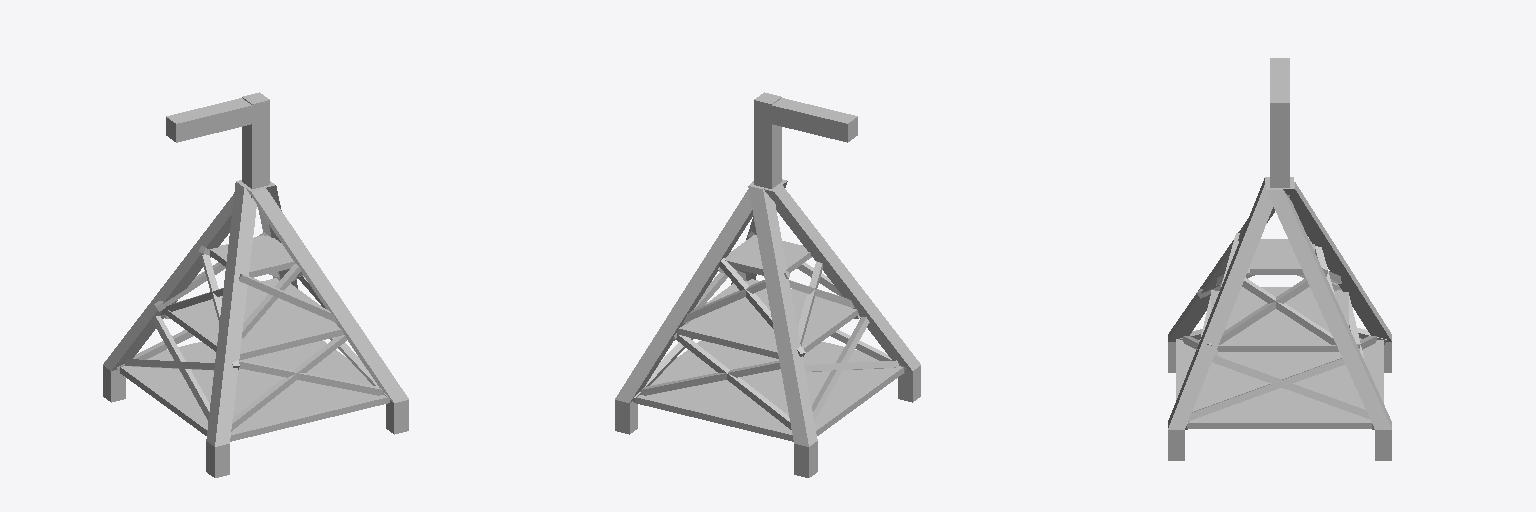
The model's file is windmillbase.obj.
3 renders of one model, left to right at view 1: azimuth 30°, elevation 25°; view 2: azimuth 150°, elevation 25°; view 3: azimuth 270°, elevation 25°, orthographic.
Parts seen in each view (by area): view 1: Cube.004_Cube.022; view 2: Cube.004_Cube.022; view 3: Cube.004_Cube.022.
Part boxes in pixels (x1,y1,x2,y2): Cube.004_Cube.022: (103,92,408,477); Cube.004_Cube.022: (615,92,920,477); Cube.004_Cube.022: (1168,58,1391,460).
Bounding box in the file's own units: 6.5 × 10.07 × 6.5.